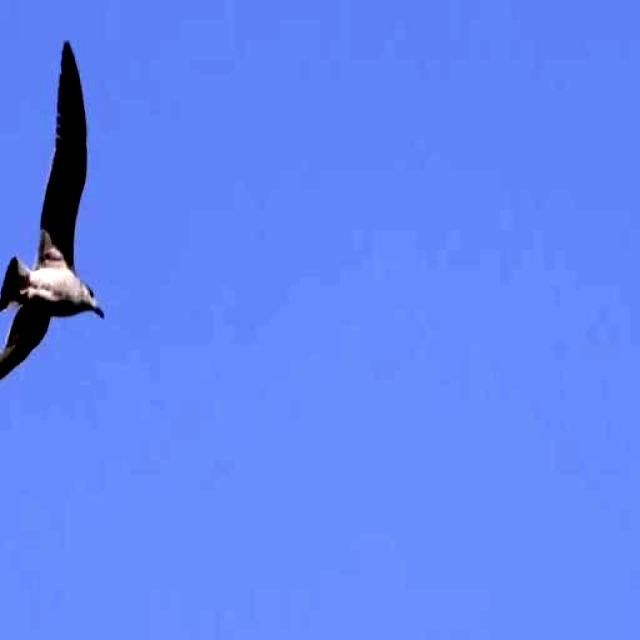airplane: (0, 34, 110, 401)
